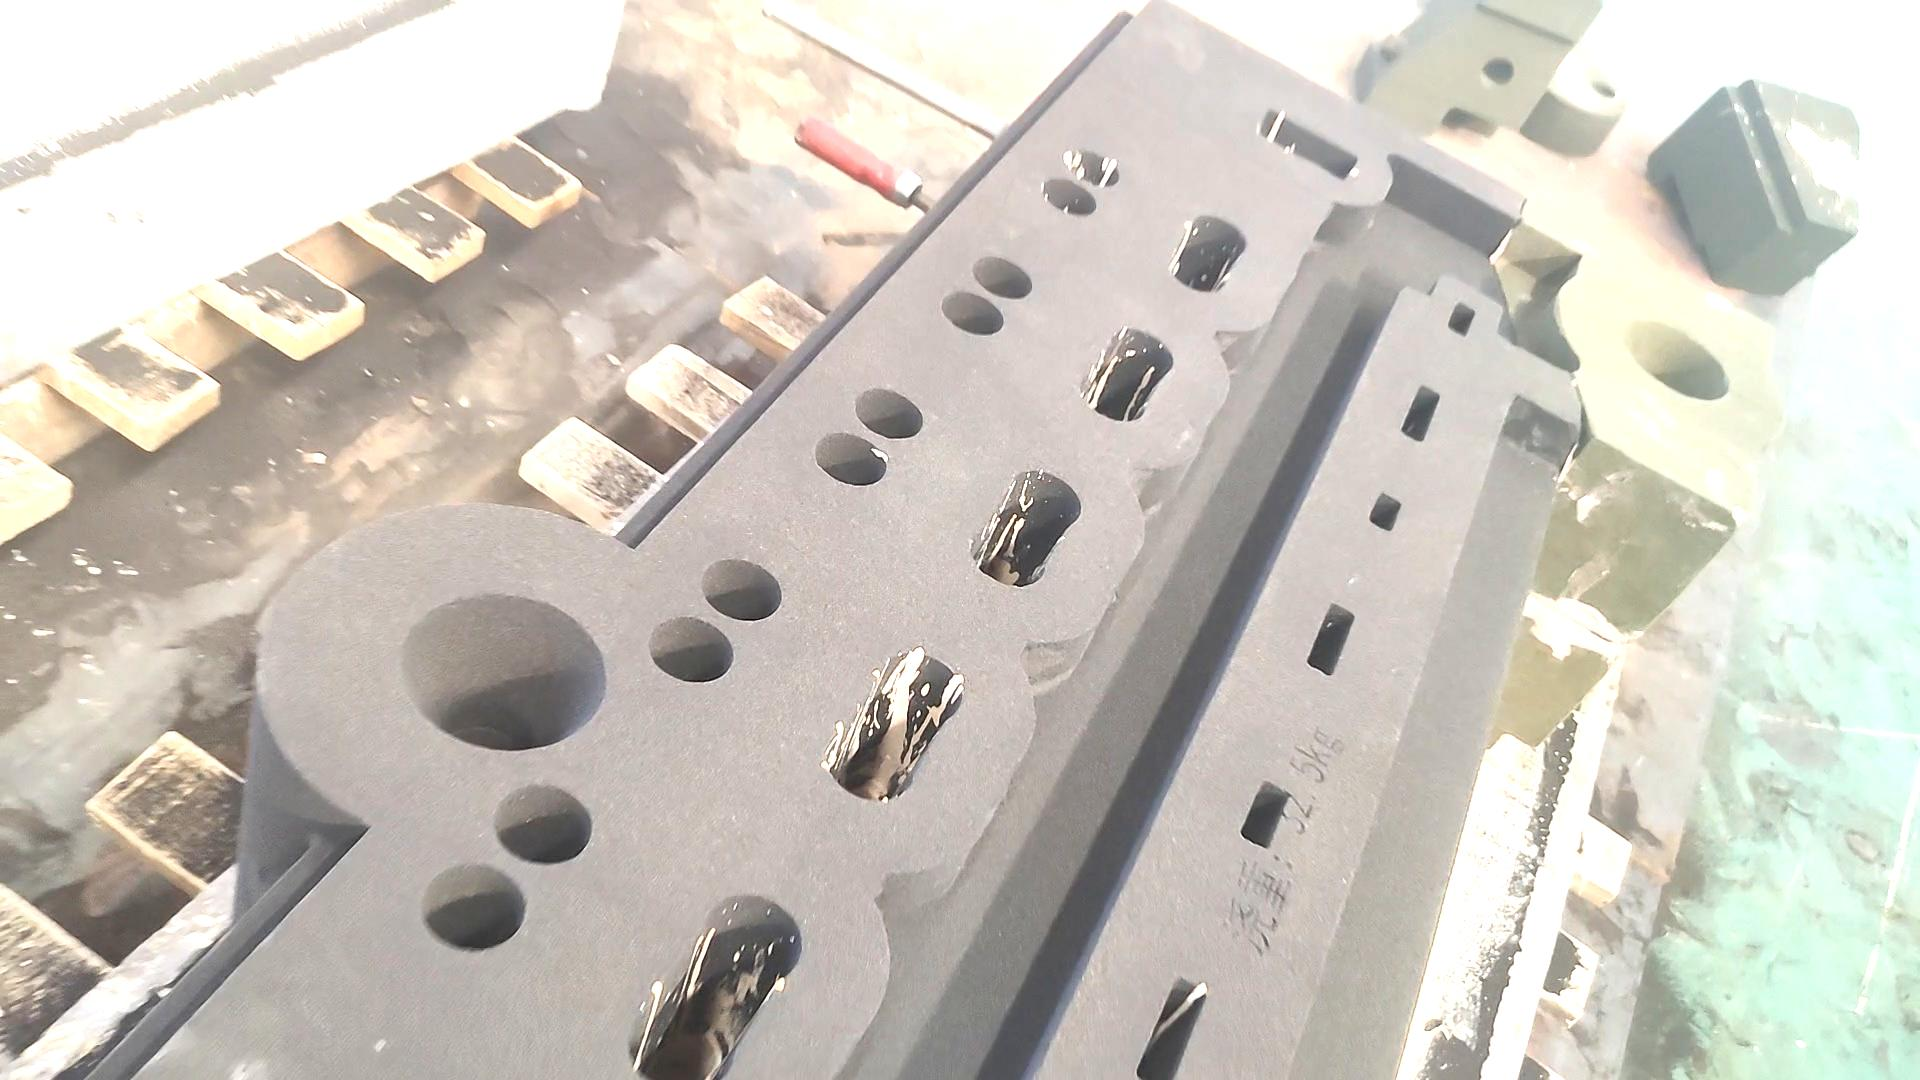pouring hole: (396, 592, 607, 750), (1626, 315, 1727, 400)
